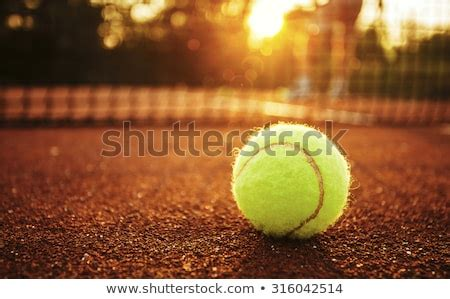tennis_ball: (232, 123, 348, 239)
